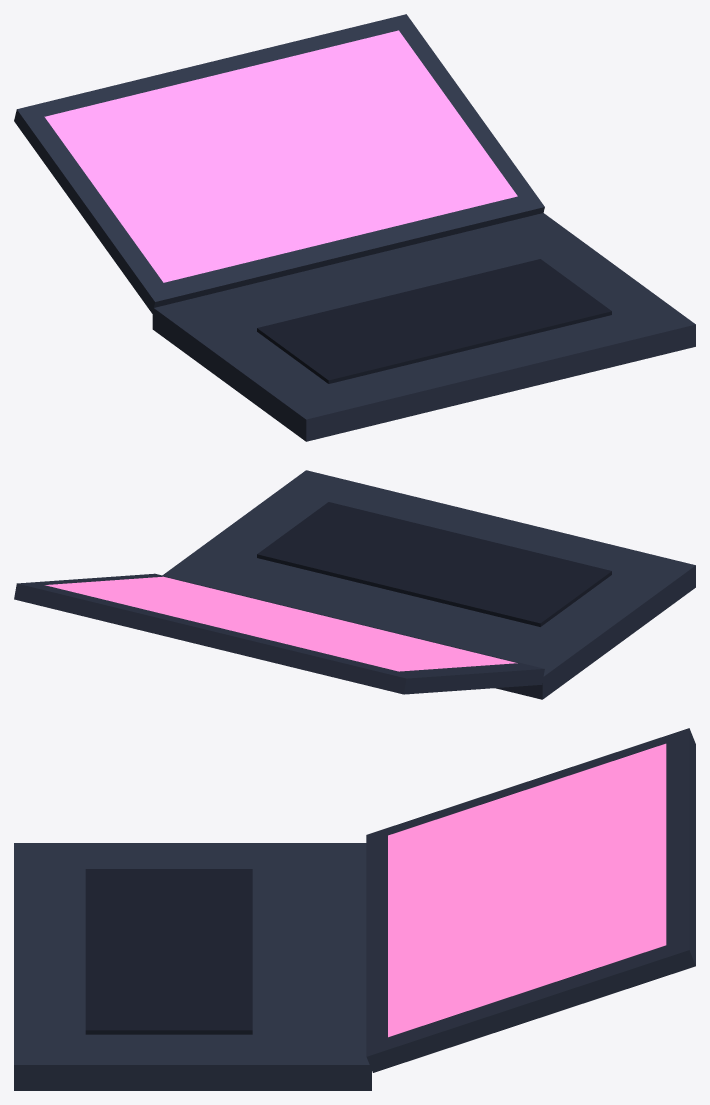
File: laptop.glb
3 renders of one model, top to bottom at view 1: azimuth 30°, elevation 25°; view 2: azimuth 150°, elevation 25°; view 3: azimuth 270°, elevation 25°, orthographic. The views are drawn at different scales.
Visible parts, largest first — view 1: screen, base, lid, keys; view 2: base, keys, screen, lid; view 3: base, screen, keys, lid.
Part boxes in pixels (<box>): screen: <box>44,30,517,282</box>; base: <box>152,213,695,441</box>; lid: <box>14,14,544,313</box>; keys: <box>257,259,611,383</box>; base: <box>162,470,695,699</box>; keys: <box>257,502,611,626</box>; screen: <box>45,576,517,671</box>; lid: <box>14,573,544,694</box>; base: <box>14,843,371,1090</box>; screen: <box>388,743,666,1037</box>; keys: <box>85,869,252,1034</box>; lid: <box>366,728,695,1072</box>.
Size of the model in its own units: 1.1 by 0.3257 by 1.43.
